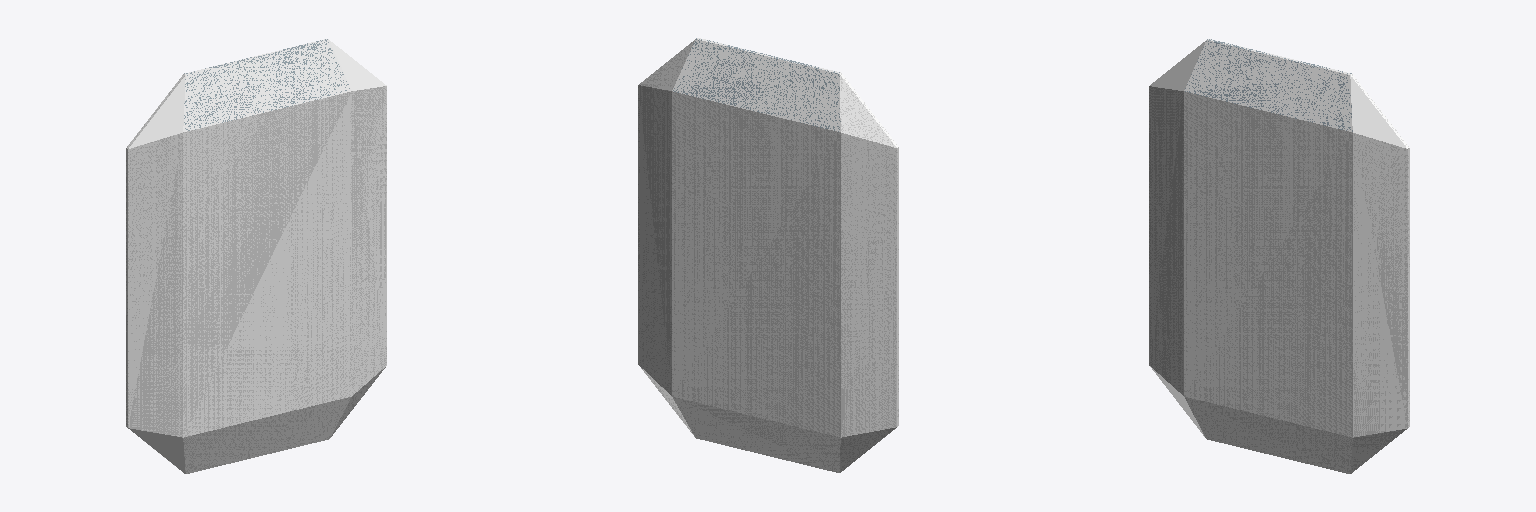
File: GasSac_Highlight.obj
3 renders of one model, left to right at view 1: azimuth 30°, elevation 25°; view 2: azimuth 150°, elevation 25°; view 3: azimuth 330°, elevation 25°, orthographic.
Parts seen in each view (by area): view 1: Mesh1 Component_1_1 Model; view 2: Mesh1 Component_1_1 Model; view 3: Mesh1 Component_1_1 Model.
Part boxes in pixels (left/top/right/bottom): Mesh1 Component_1_1 Model: left=126, top=39, right=386, bottom=473; Mesh1 Component_1_1 Model: left=638, top=38, right=898, bottom=472; Mesh1 Component_1_1 Model: left=1149, top=39, right=1409, bottom=473.
Size of the model in its own units: 0.214 by 0.3156 by 0.0332.